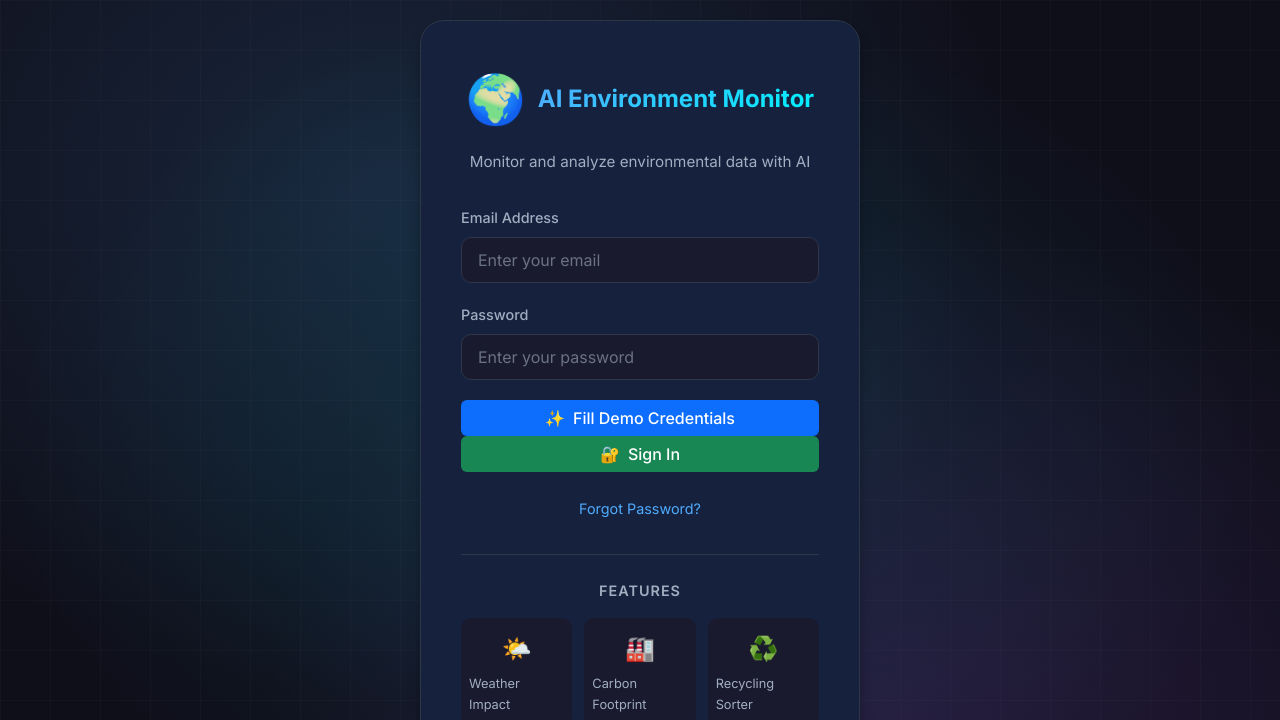
Scenario: demo fill uses configured endpoint and does not submit login
Click the button "✨ Fill Demo Credentials". click: (640, 418)
box: [461,400,819,436]
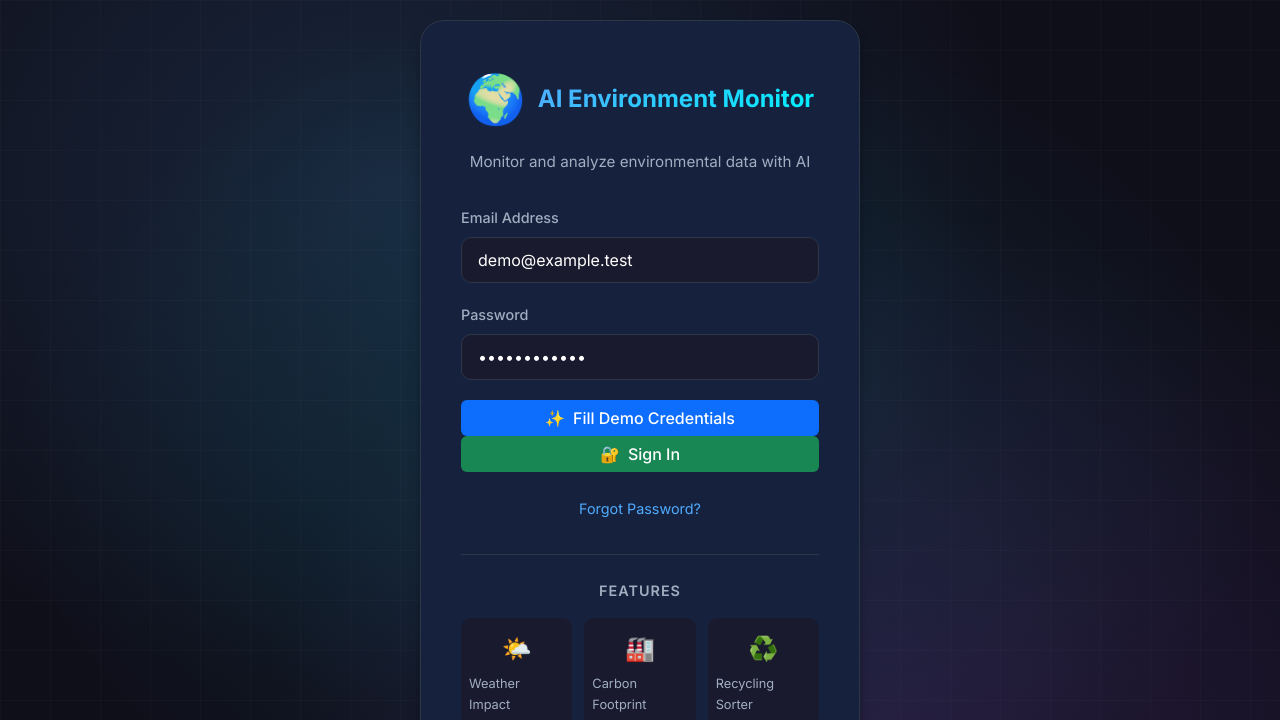
Result: the field with placeholder "Enter your email" holds "demo@example.test" at [461,237,819,283]
Result: the password field with placeholder "Enter your password" holds "fixture-only" at [461,334,819,380]
